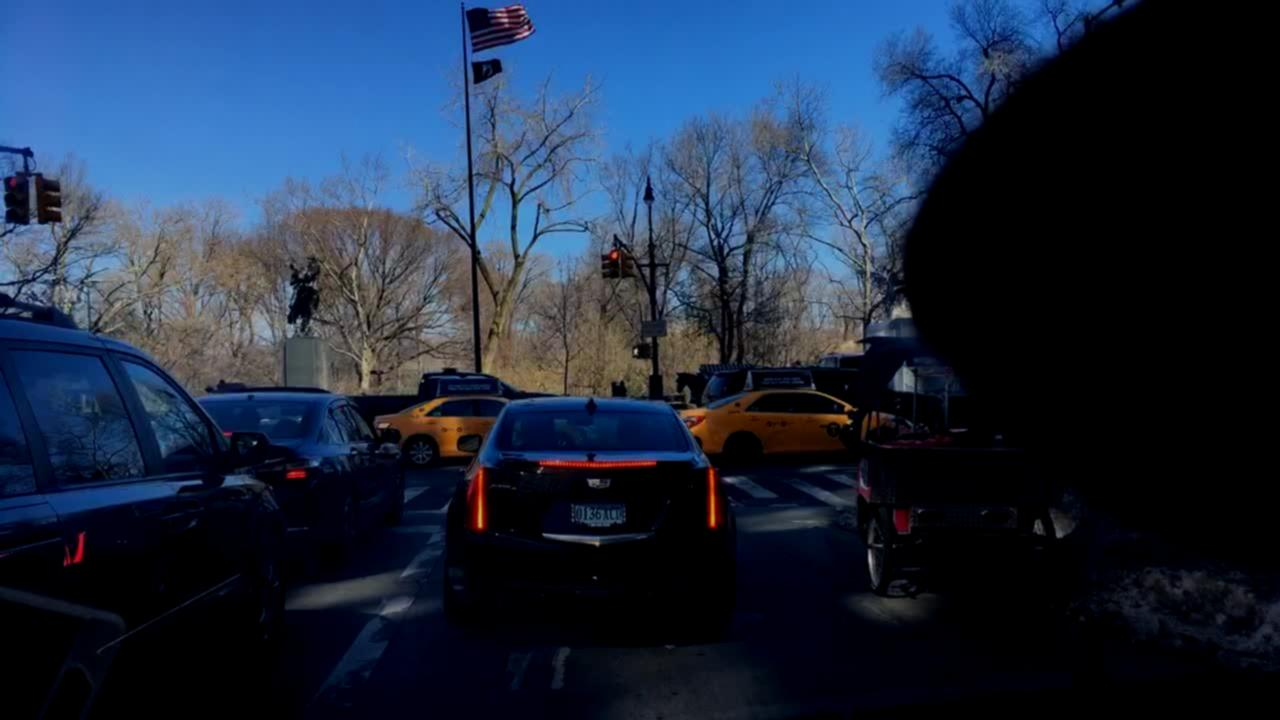cadillac: (586, 476, 613, 492)
